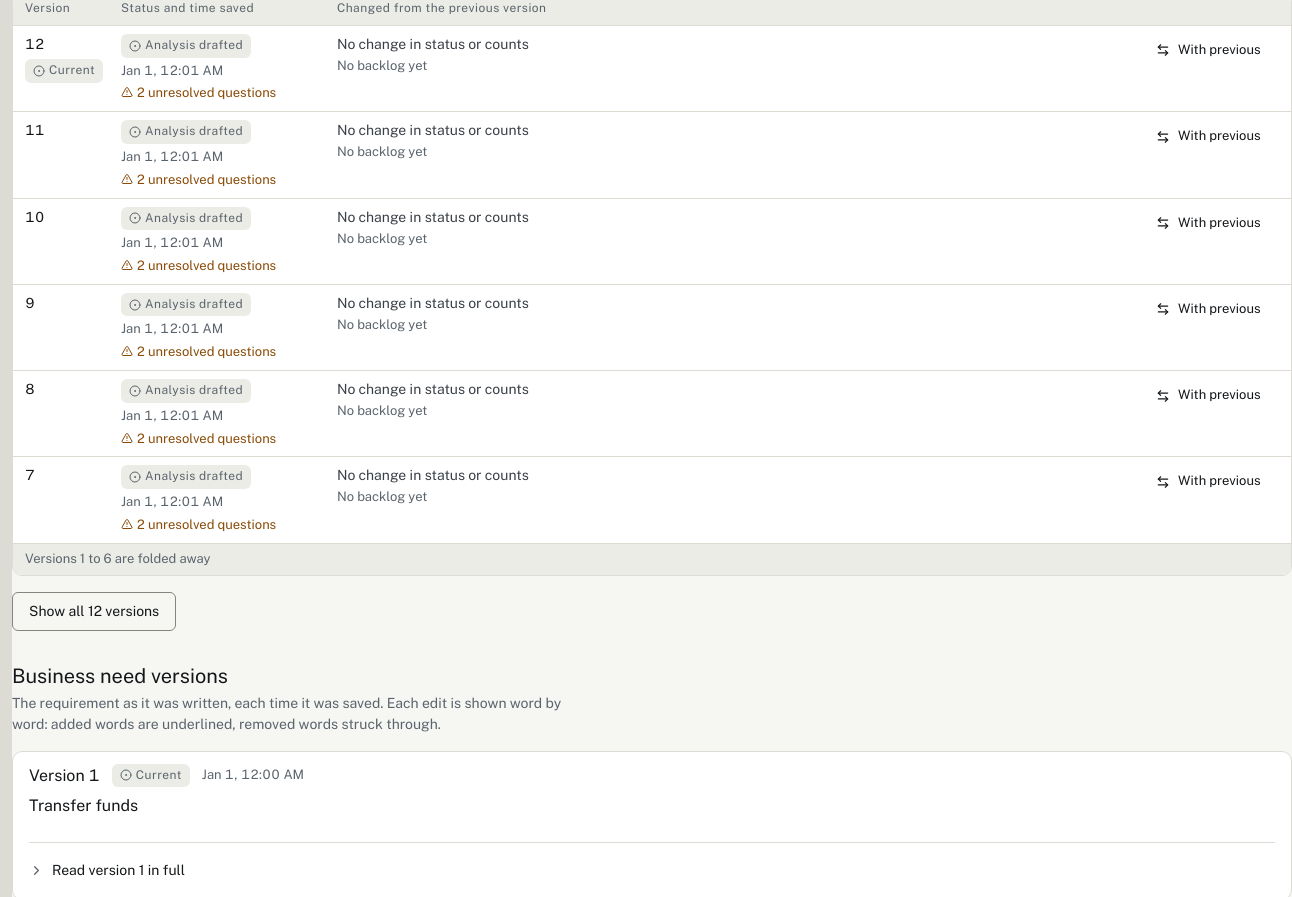
Test: RevisionPanel › marks the versions a long history folds away
(page scrolled)
Expected: the text "Versions 1 to 6 are folded away" is shown, 13,543 -> 1291,574
Click the button "Show all 12 versions" at (94, 611), box 12,592 -> 176,630
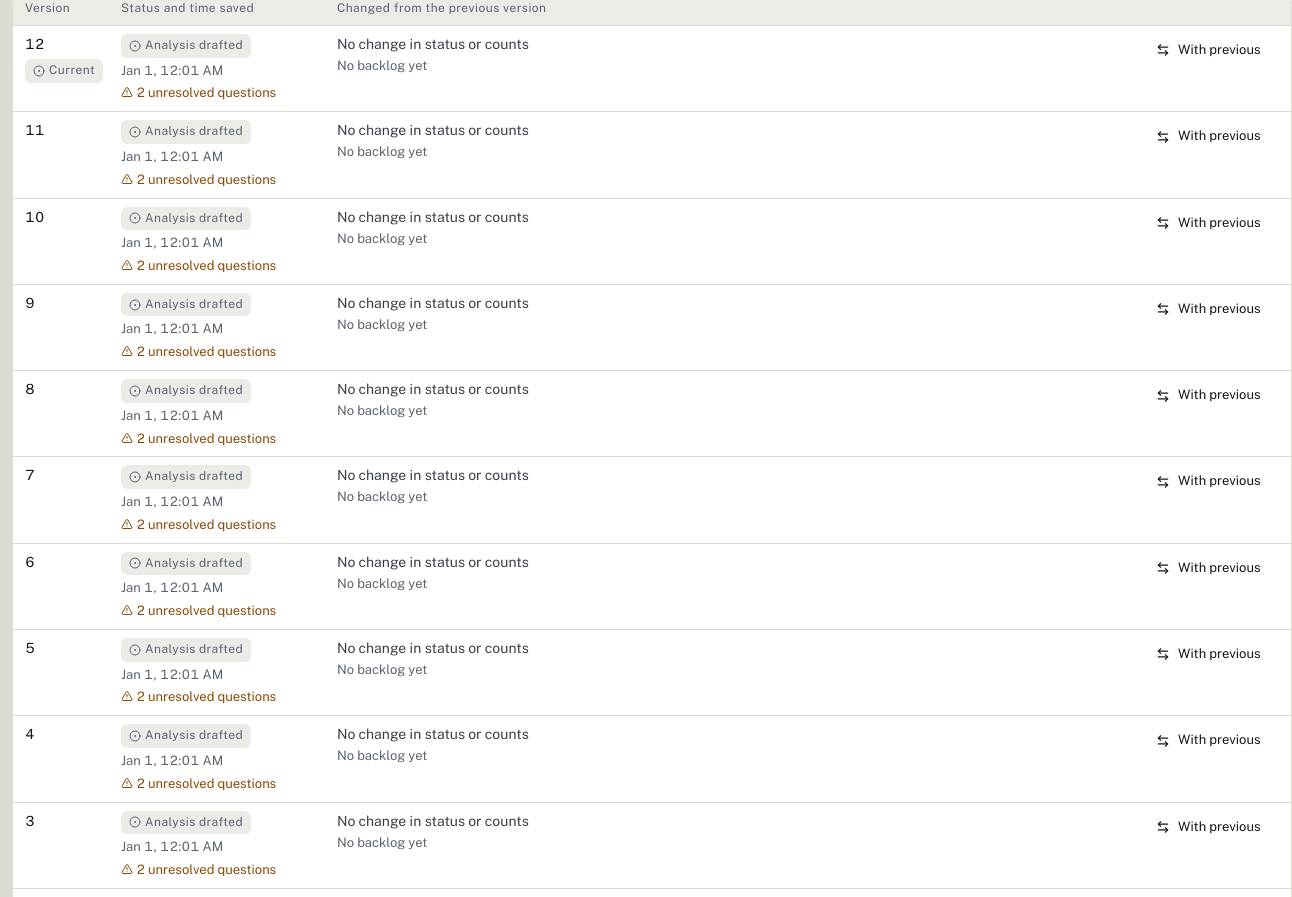
Expected: the text "folded away" is gone
